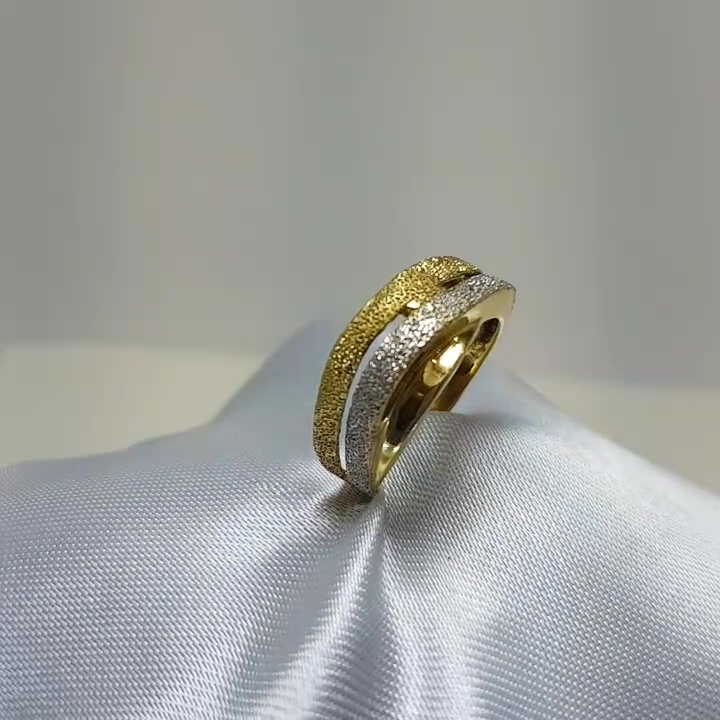Ring 5: (293, 244, 528, 508)
